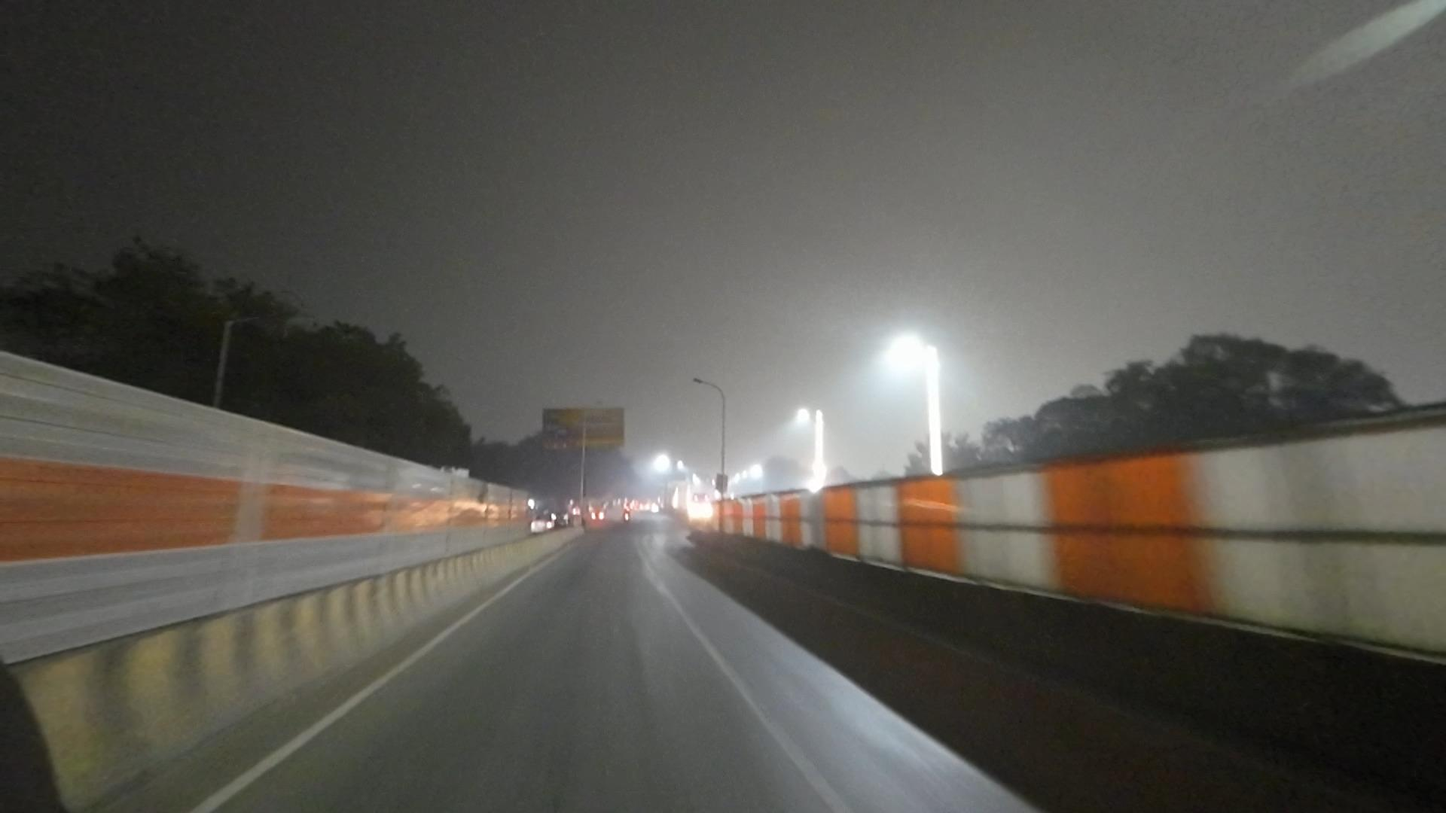streetlight: (687, 375, 720, 391)
